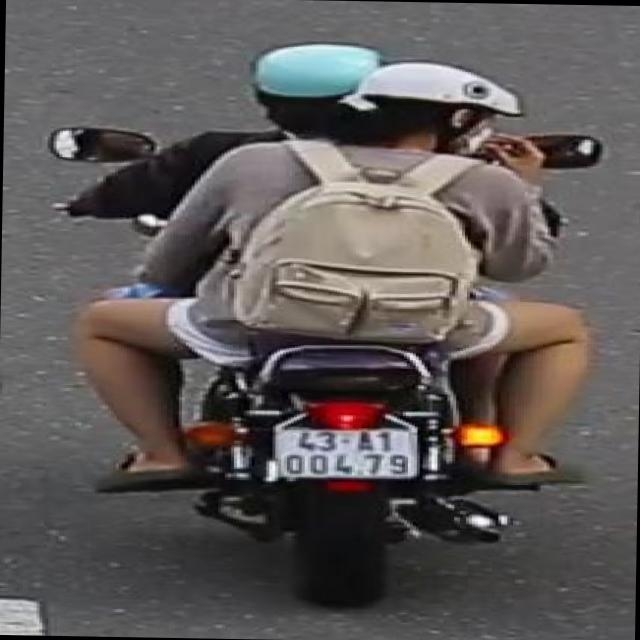LP: (265, 417, 426, 482)
helmet: (348, 58, 532, 146), (248, 38, 379, 120)
